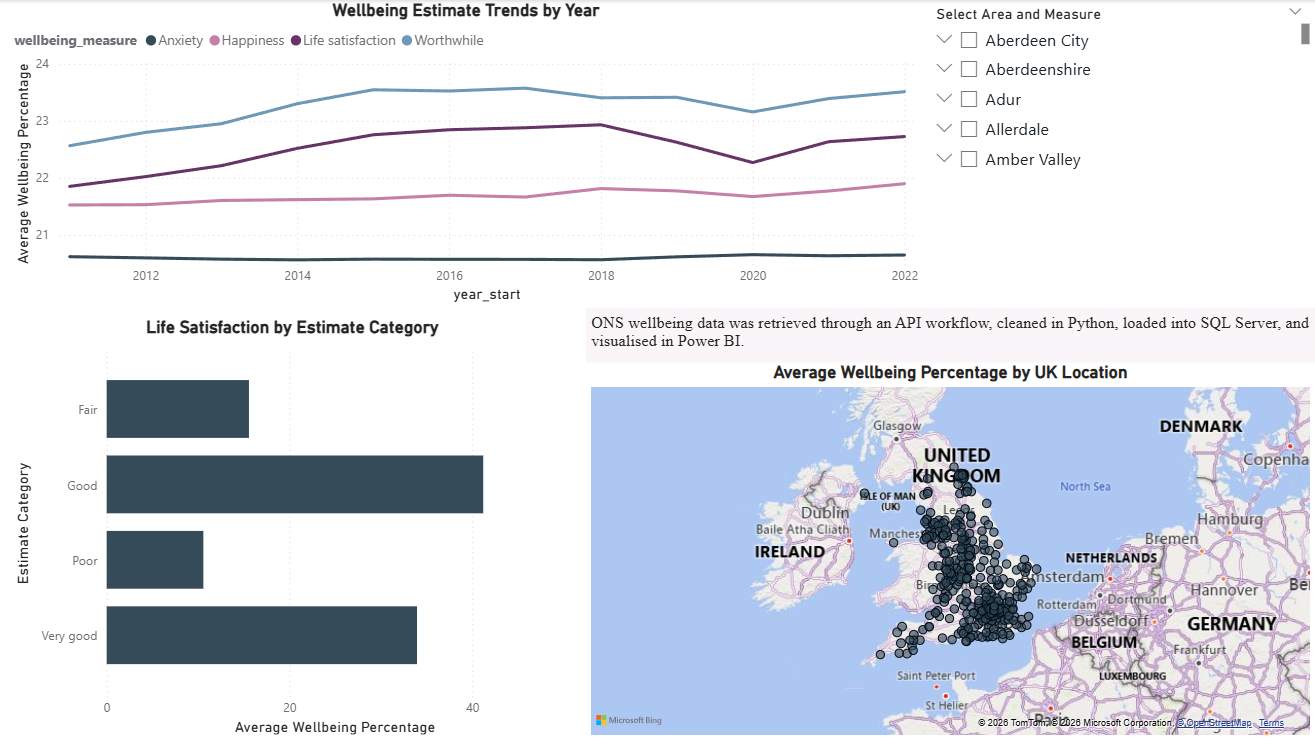

What the dashboard file says about the page in this screenshot:
{"tool":"powerbi","page":{"name":"ONS API Wellbeing Trends","canvas":[1280,720],"ordinal":4},"visuals":[{"type":"lineChart","title":"Wellbeing Estimate Trends by Year","fields":{"Y":["Avg(stg stg_ons_wellbeing_local_authority.wellbeing_percentage)"],"Series":["stg stg_ons_wellbeing_local_authority.wellbeing_measure"],"Category":["stg stg_ons_wellbeing_local_authority.year_start"]},"box":[9.7,0,889,299.6],"z":0},{"type":"barChart","title":"Life Satisfaction by Estimate Category","fields":{"Category":["stg stg_ons_wellbeing_local_authority.estimate_category"],"Y":["Avg(stg stg_ons_wellbeing_local_authority.wellbeing_percentage)"]},"box":[9.7,308.3,551.5,411.4],"z":1000},{"type":"slicer","title":"Select Area and Measure","fields":{"Values":["stg stg_ons_wellbeing_local_authority.area_name","stg stg_ons_wellbeing_local_authority.wellbeing_measure"]},"box":[898.7,0,381.3,174.1],"z":2000},{"type":"map","title":"Average Wellbeing Percentage by UK Location","fields":{"Size":["Avg(stg stg_ons_wellbeing_local_authority.wellbeing_percentage)"],"Category":["stg stg_ons_wellbeing_local_authority.UK Location"]},"box":[570.9,352.1,709.1,367.7],"z":3000},{"type":"textbox","box":[570.9,299.6,709.1,52.5],"z":4000}]}

Visuals, with their boxes in screenshot pixels (x1, y1, x2, y2), scaled from the page's 1280x720 canvas onto the 1315x740 screenshot:
"Wellbeing Estimate Trends by Year" lineChart: <box>10,0,923,308</box>
"Life Satisfaction by Estimate Category" barChart: <box>10,317,577,739</box>
"Select Area and Measure" slicer: <box>923,0,1314,179</box>
"Average Wellbeing Percentage by UK Location" map: <box>587,362,1314,739</box>
textbox: <box>587,308,1314,362</box>
